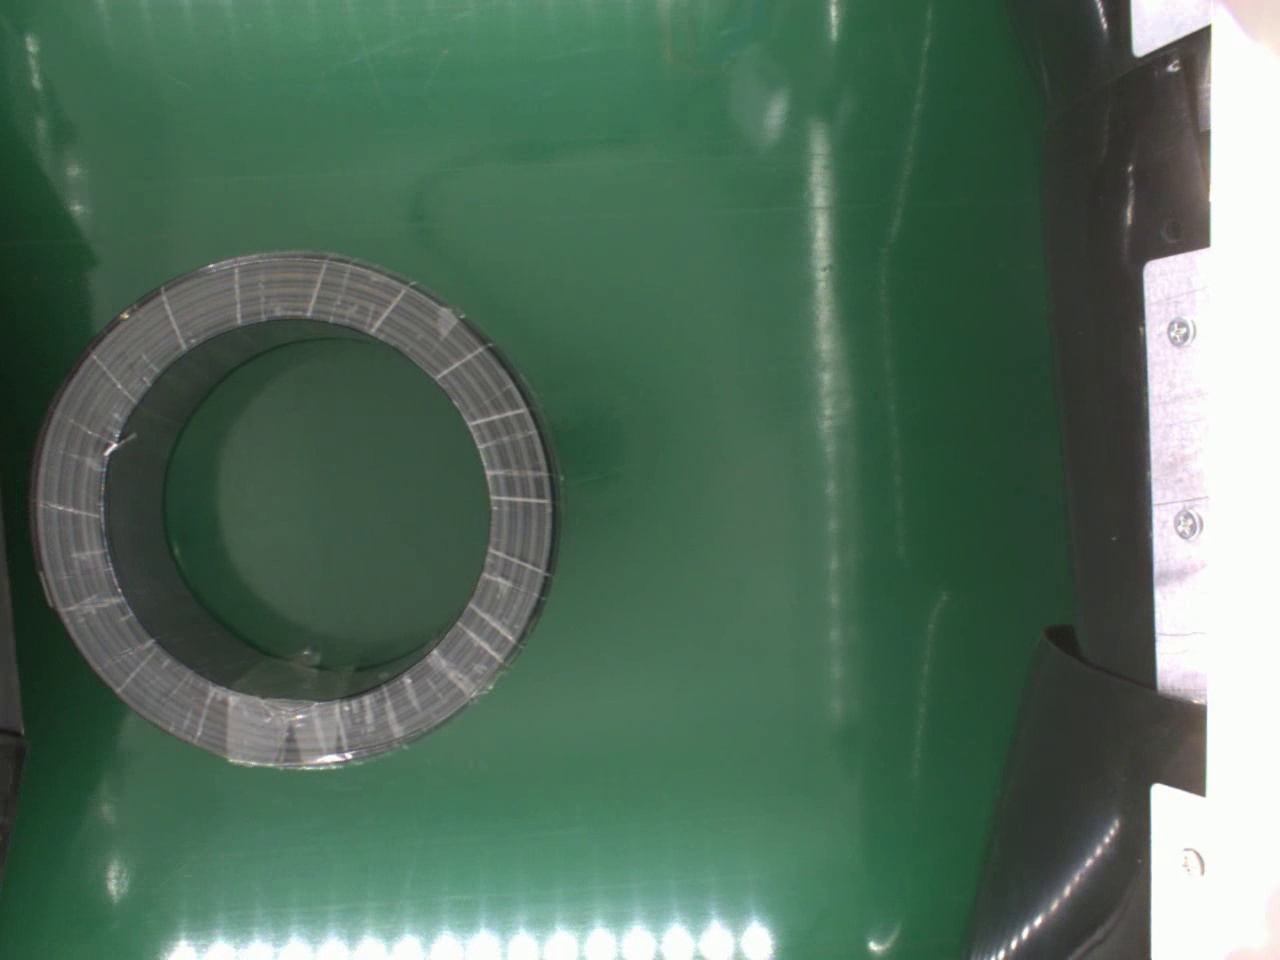black: (33, 243, 562, 772)
